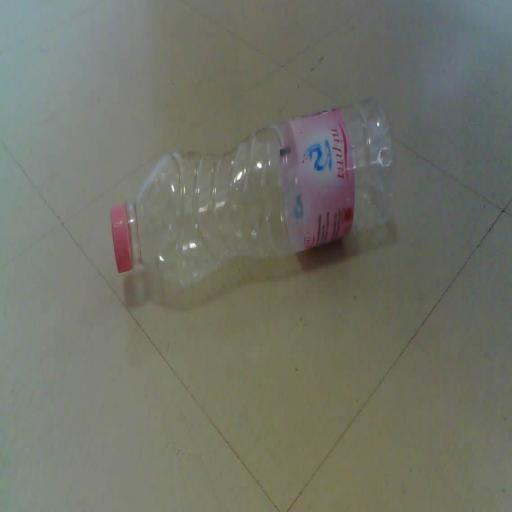bottle: (96, 84, 418, 300)
